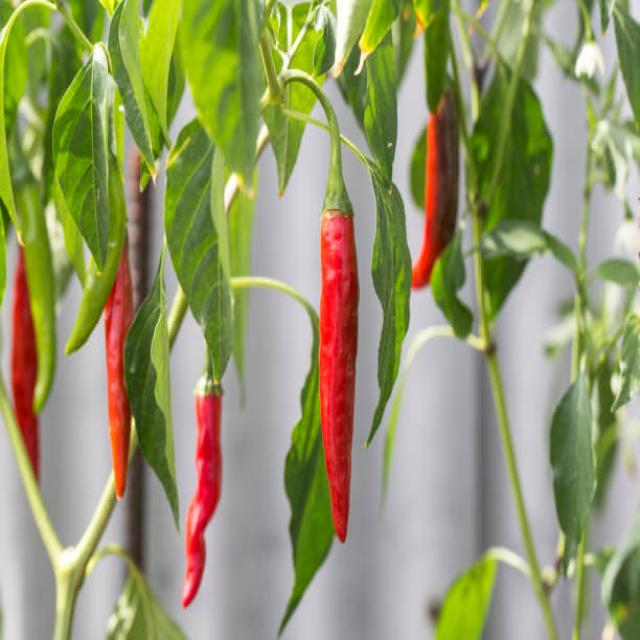Ripe: (319, 211, 359, 542), (181, 393, 221, 606), (105, 244, 134, 498)
Unripe: (65, 152, 125, 354), (15, 182, 55, 413)
